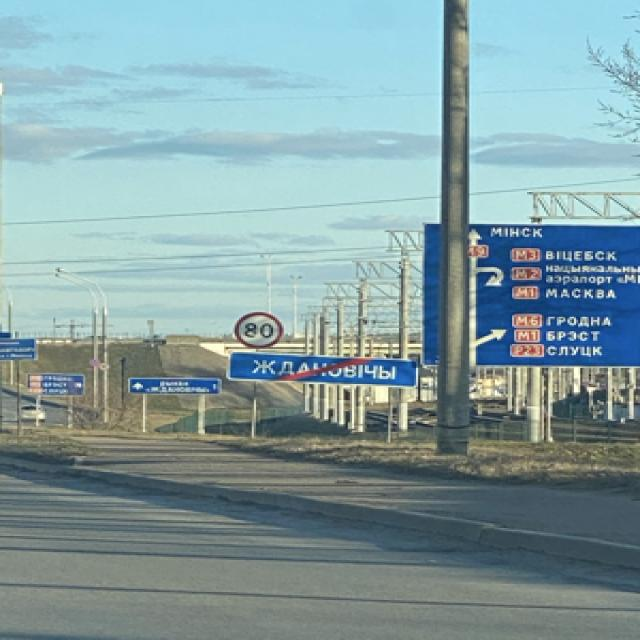speedlimit: (228, 309, 282, 347)
